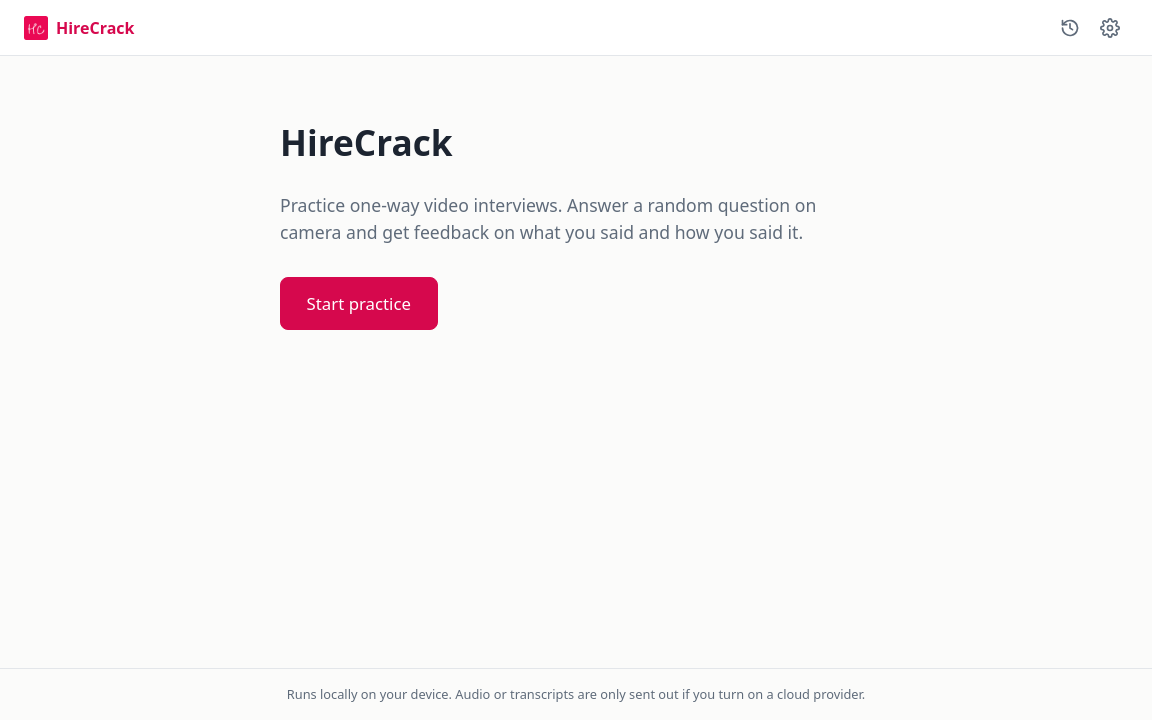
Test: Settings page › lists the camera and microphone devices
The width and height of the screenshot is (1152, 720).
Step 1. Click the button named "Settings" → coordinates (1110, 28), box [1092,10,1128,46]
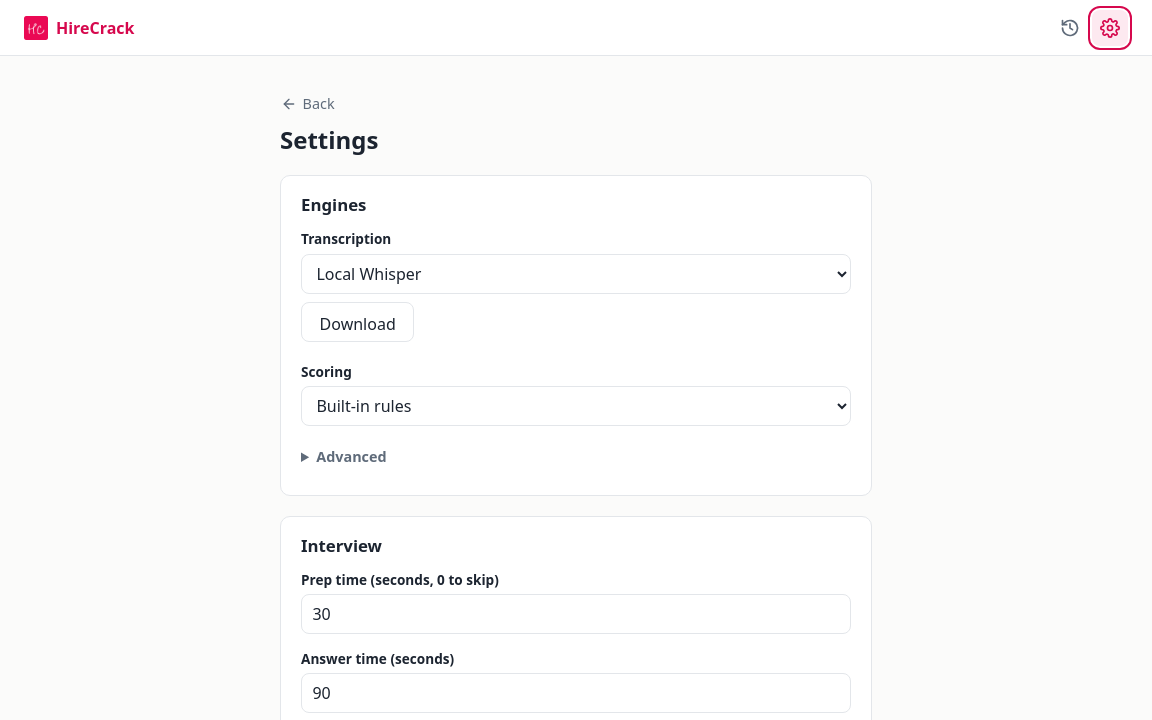
Now the heading "Settings" is shown, box [280,125,378,155]
